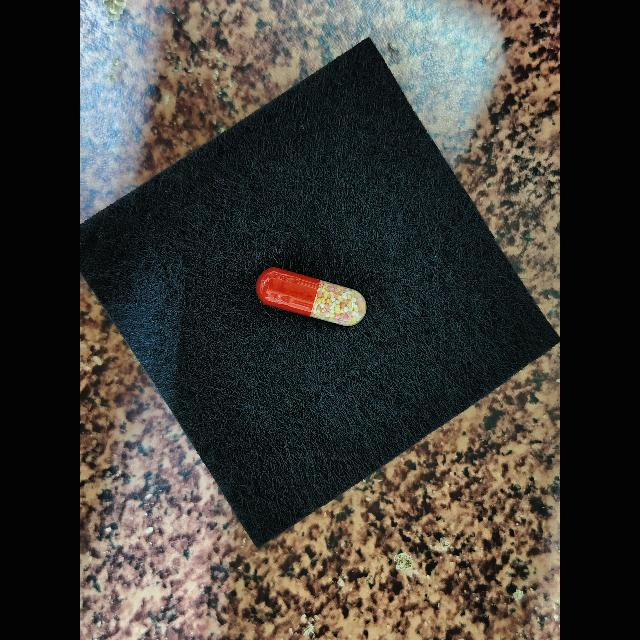Intact Capsule: (256, 268, 367, 326)
